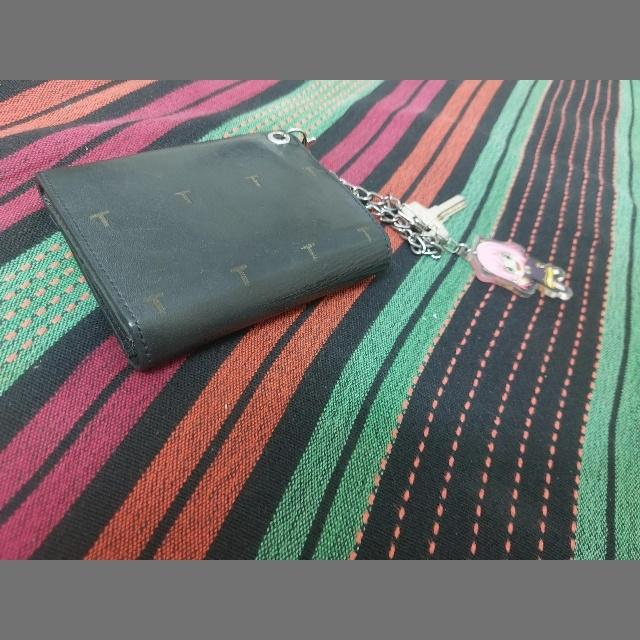Keys: (402, 196, 466, 240)
Wallet: (33, 128, 393, 372)
